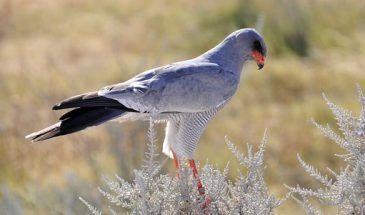bird: (23, 25, 269, 215)
